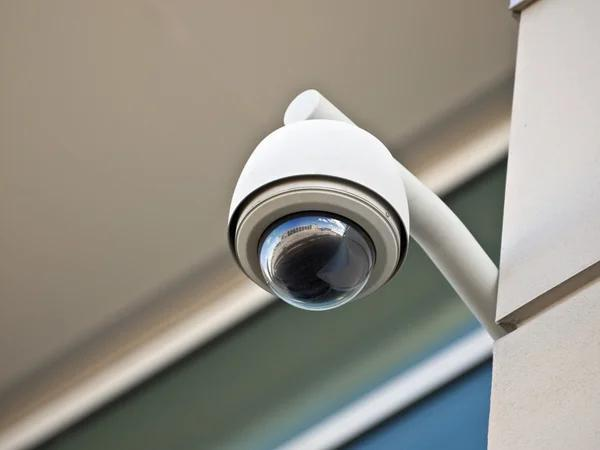360-Cam: (220, 117, 421, 316)
